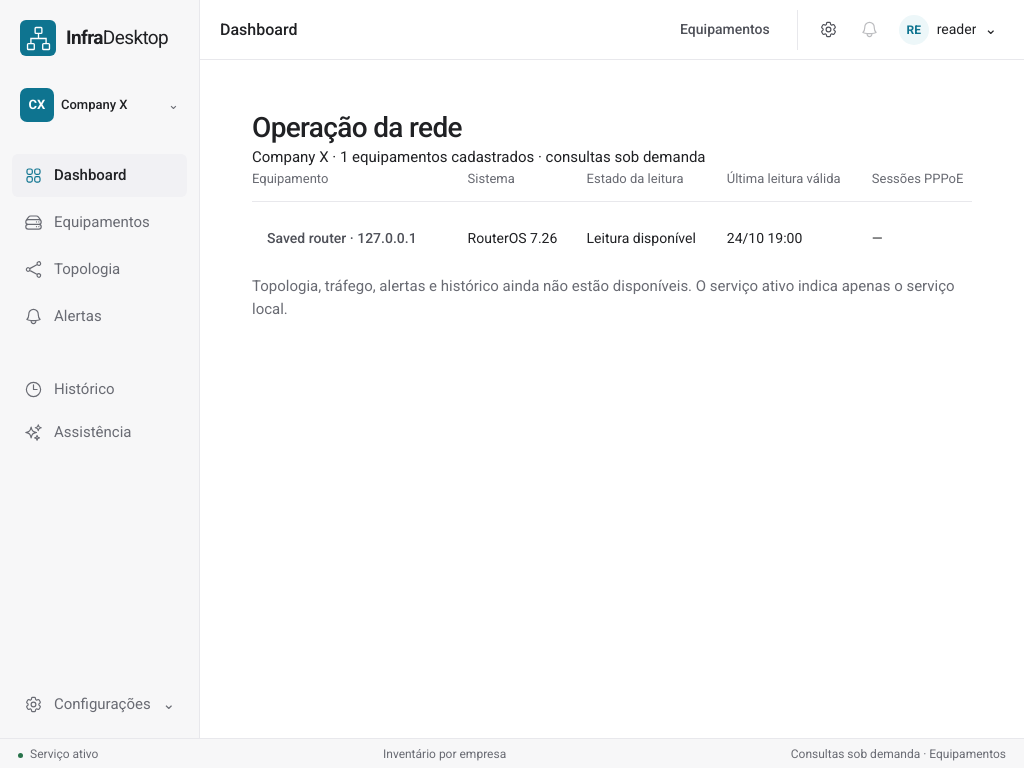
Scenario: dashboard return preserves target while Back exposes the inventory list
Click the button "Saved router · 127.0.0.1": (342, 239) [252, 219, 432, 258]
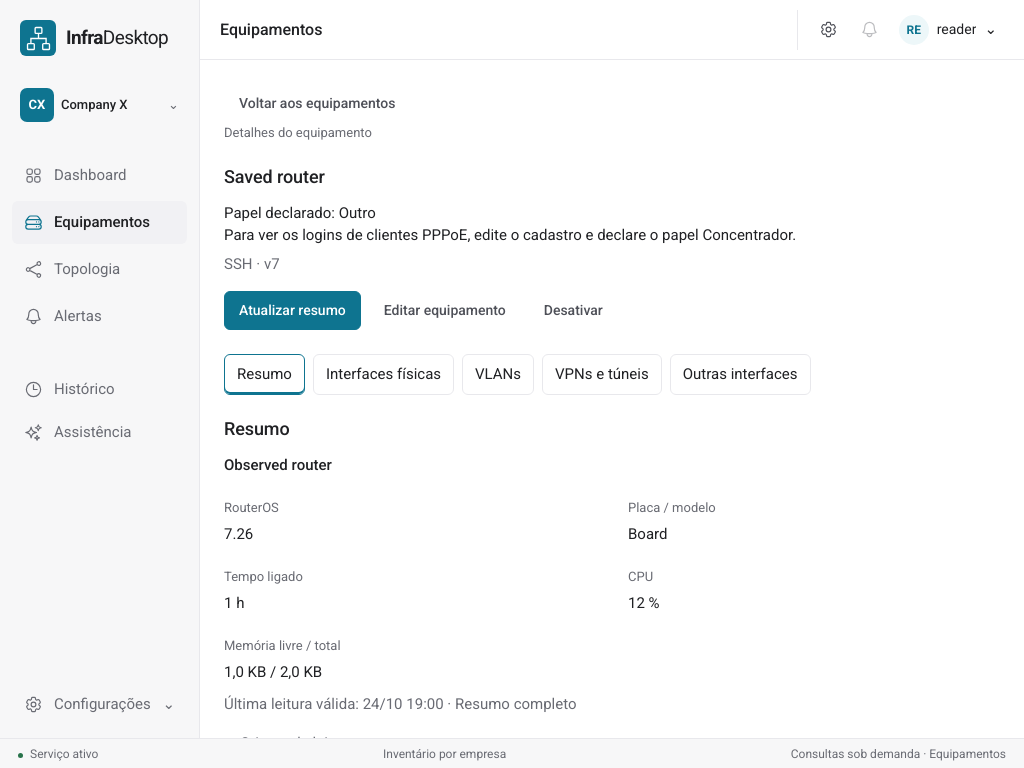
Expected: the heading "Resumo" is shown, [224, 418, 290, 438]
Click the button "Voltar aos equipamentos": (317, 104) [224, 84, 410, 123]
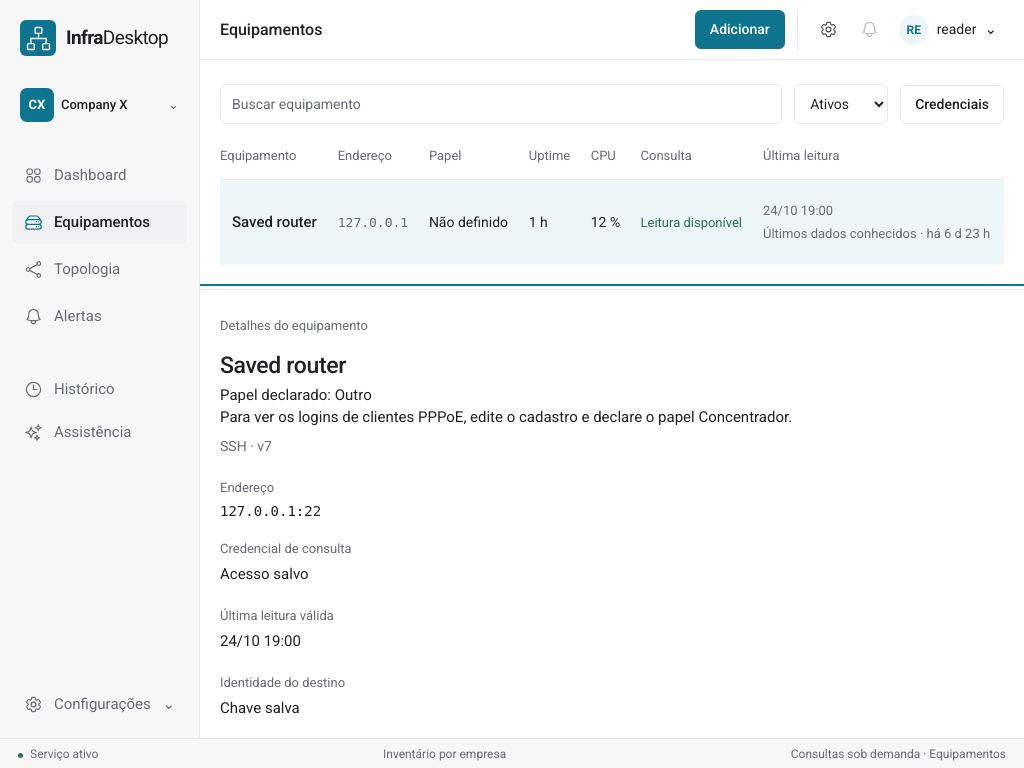
Expected: the field labelled "Buscar equipamento" is shown, [220, 84, 782, 124]
Expected: the button "Voltar aos equipamentos" is gone
Click the button "Dashboard": (100, 176) [12, 154, 187, 197]
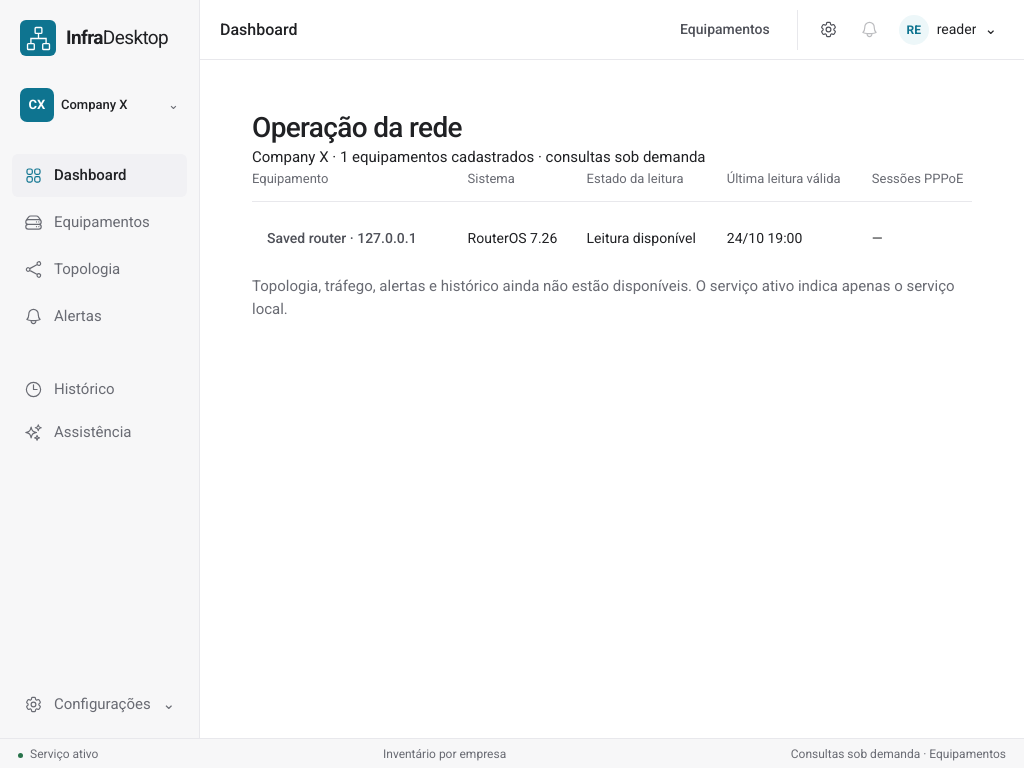
Click the button "Saved router · 127.0.0.1": (342, 239) [252, 219, 432, 258]
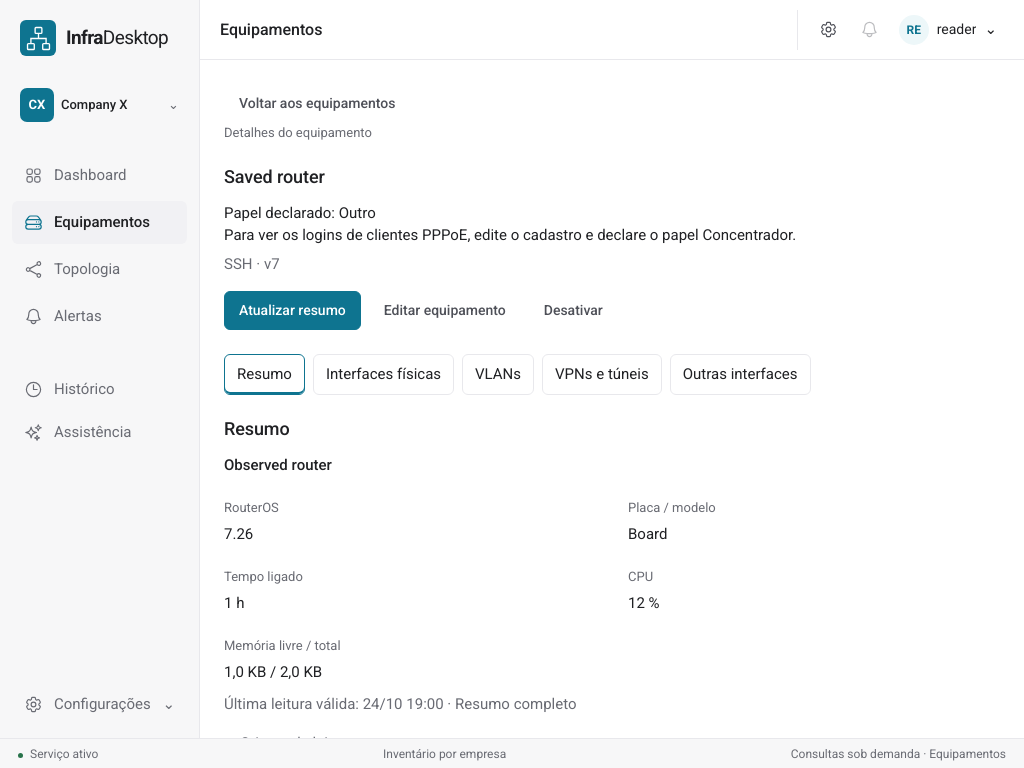
Click the tab "Interfaces físicas": (383, 374) [313, 354, 454, 394]
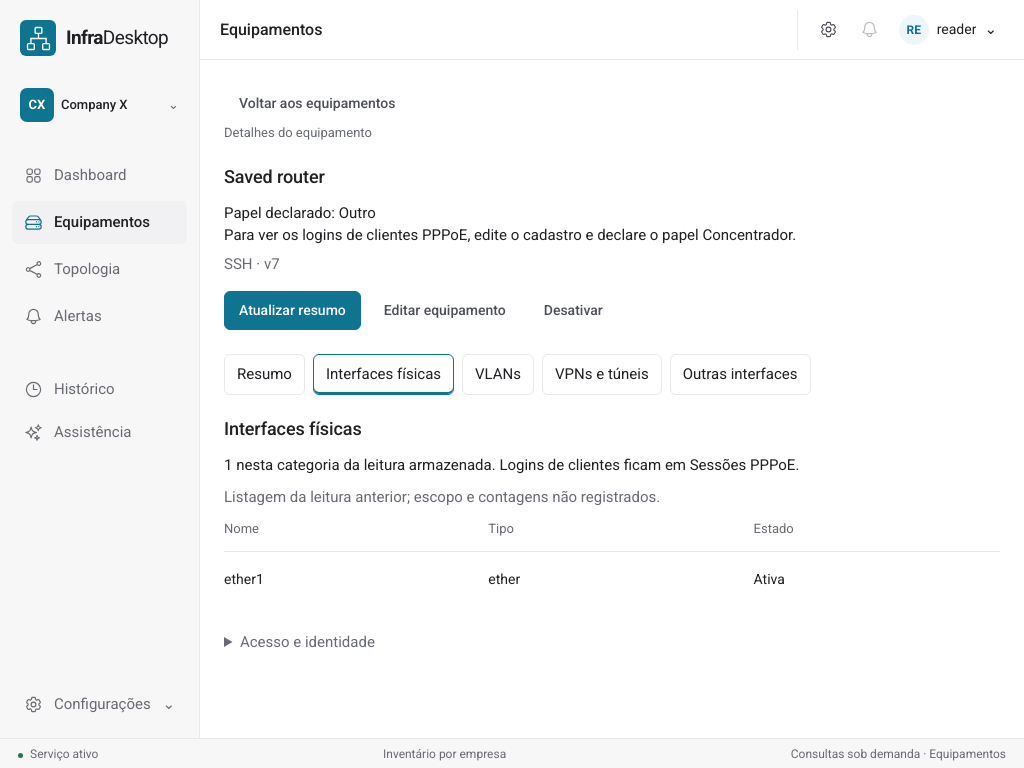
Expected: the text "ether1" is shown, [224, 552, 478, 607]
